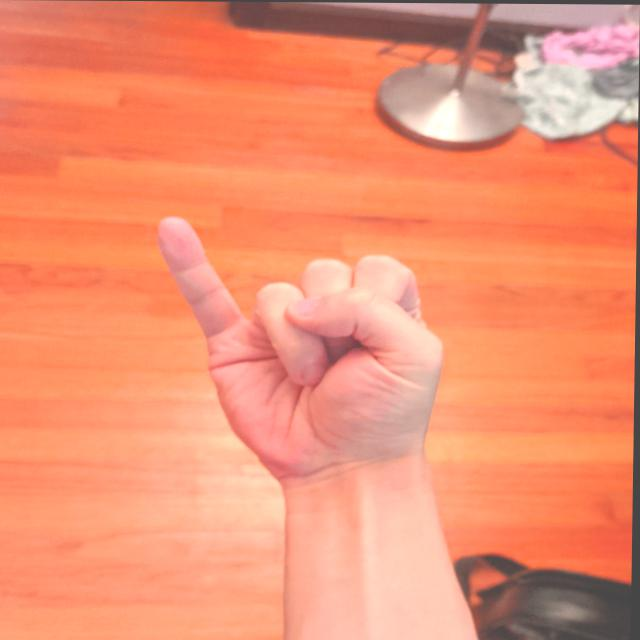I: (145, 211, 458, 491)
